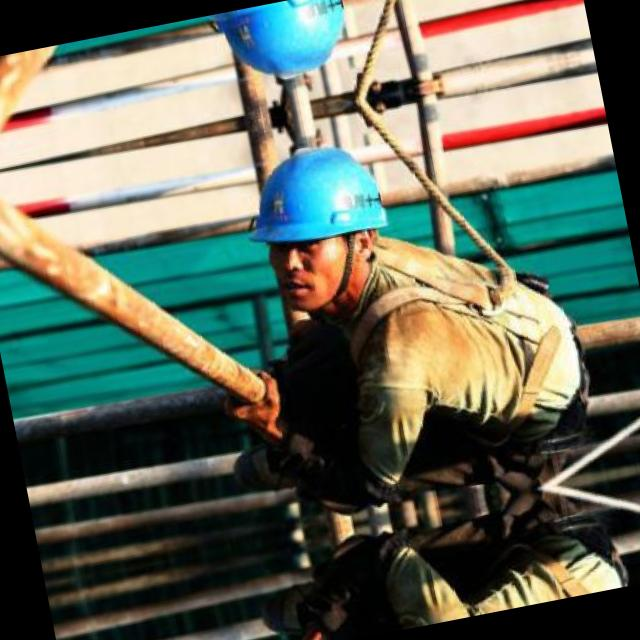helmet: (211, 110, 421, 343), (186, 0, 377, 118)
